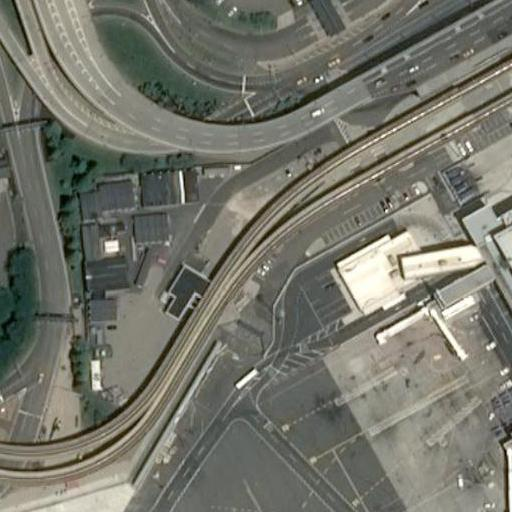Aircraft: (422, 504, 512, 512)
